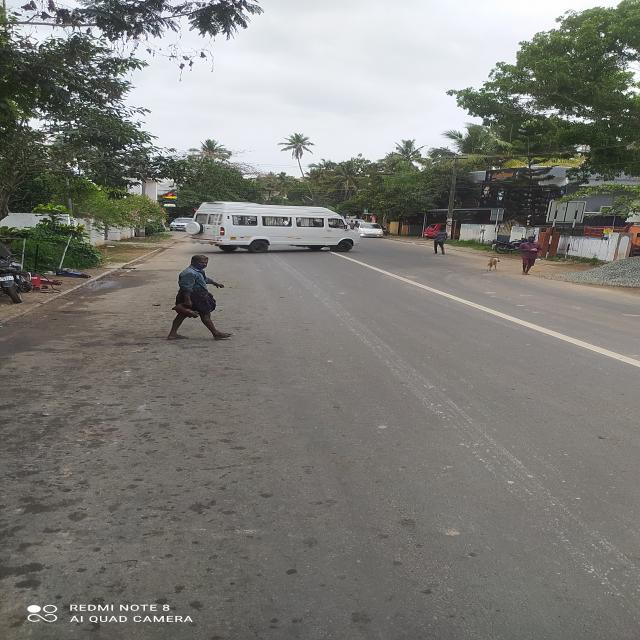Car: (358, 222, 383, 238), (169, 218, 194, 231)
Traveller: (187, 201, 358, 252)
Two Wheeler: (0, 254, 31, 302)
